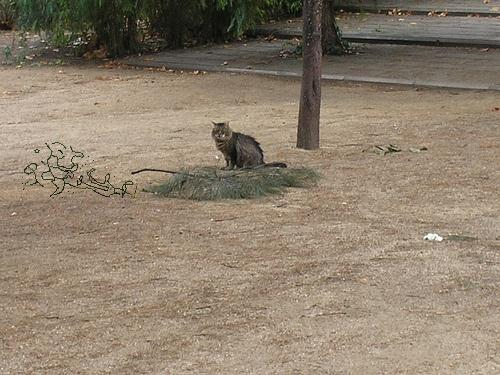tampered: (23, 143, 137, 199)
